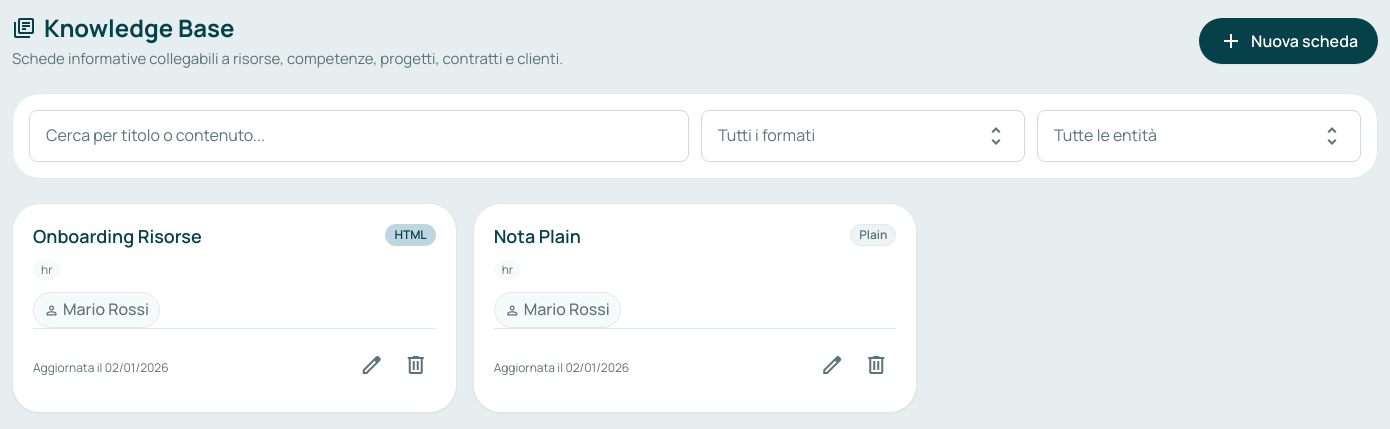
it: KnowledgeBasePage - lista e ricerca › filtra per formato
Click the button "Tutti i formati".
click(767, 135)  # box [701,110,1025,162]
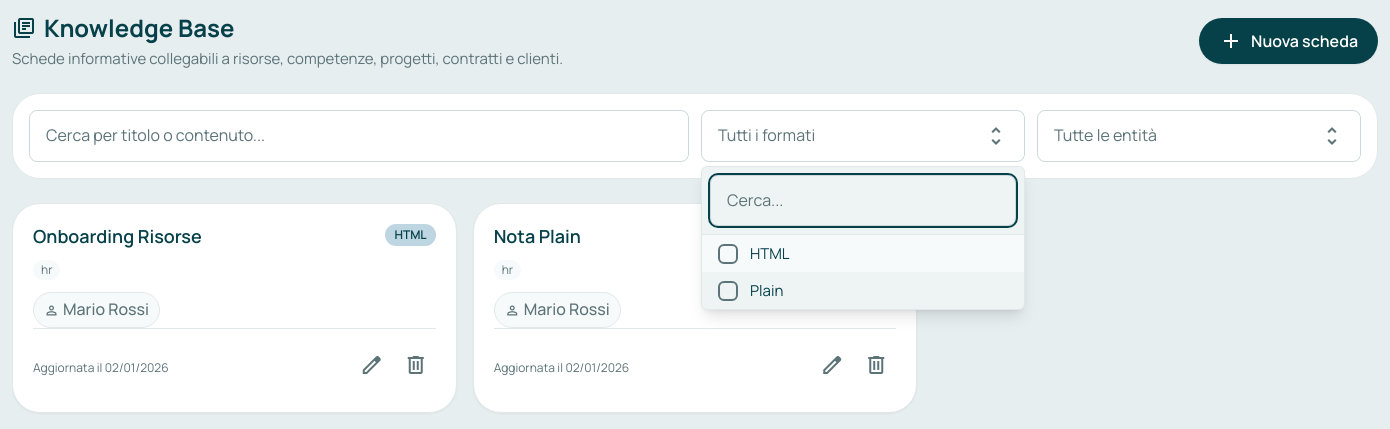
Click the option "Plain".
click(751, 291)  # box [718,280,783,301]
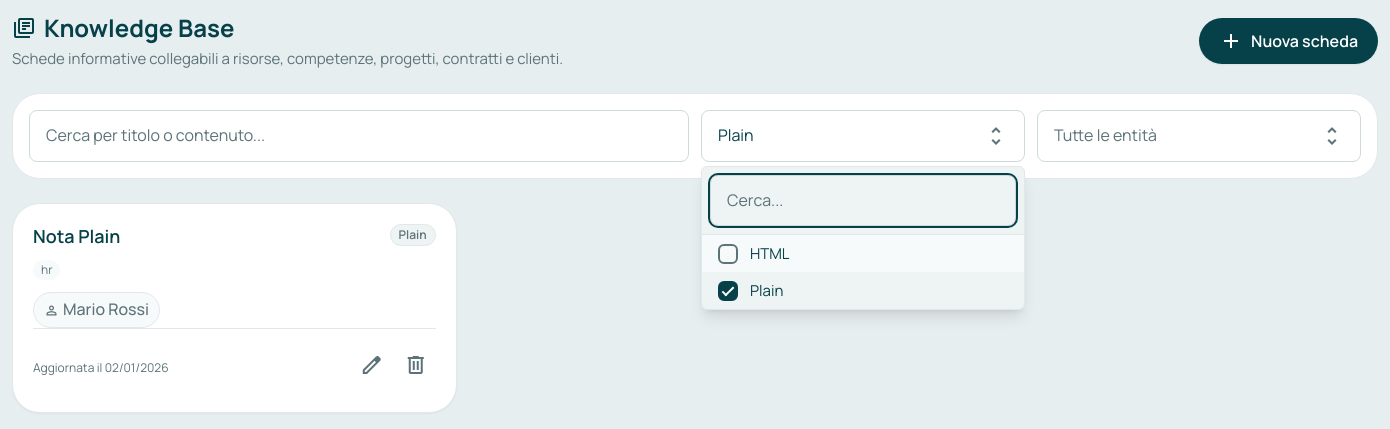
expect the heading "Nota Plain" is shown: met, box [33,224,120,248]
expect the heading "Onboarding Risorse" is gone: met
